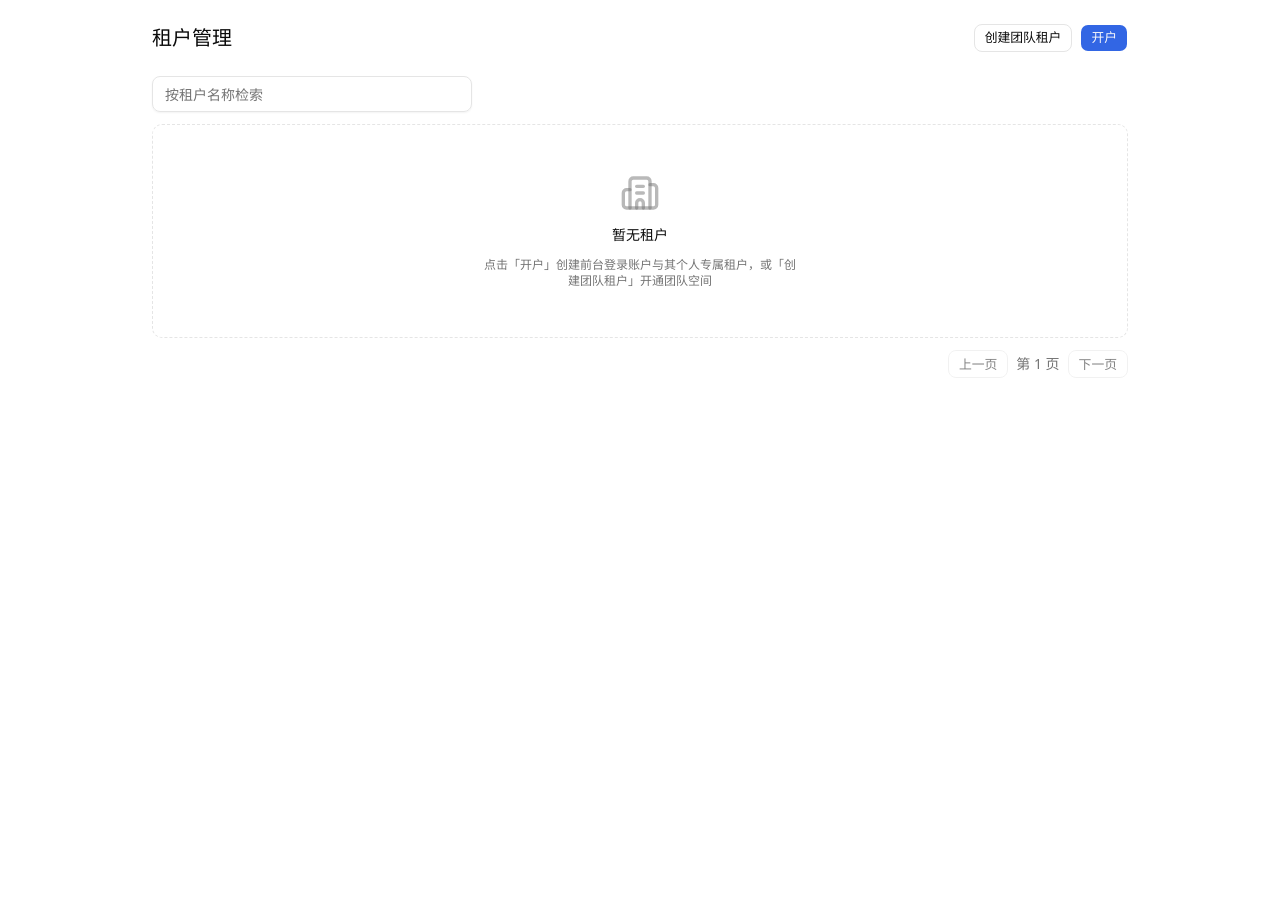
TenantsPage › 开户错误映射重名 / 非法 / 服务不可用
Click the button "开户".
click(1104, 38)  # box [1080,24,1128,52]
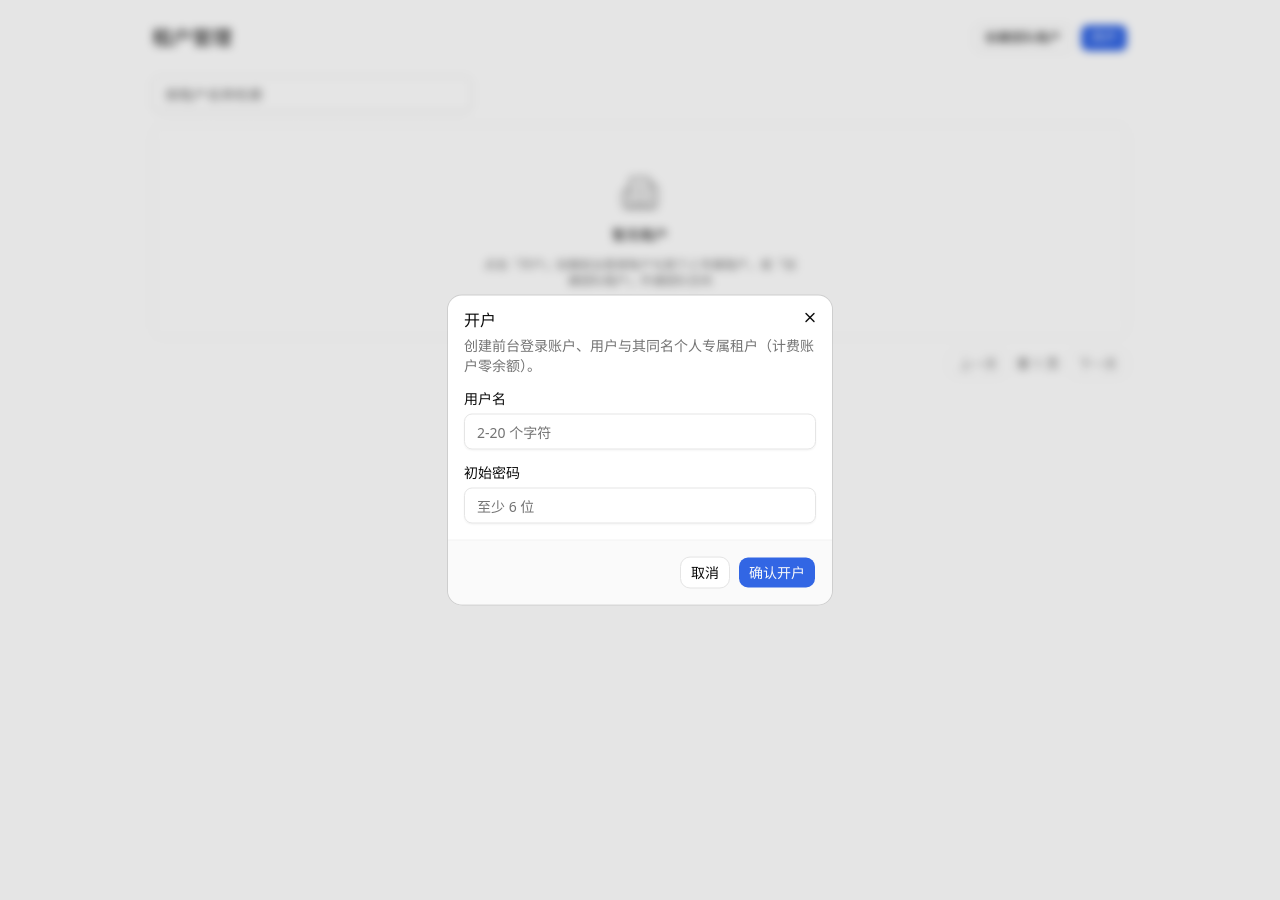
Type "alice" into the field labelled "用户名".
click(640, 432); type("alice")  # box [464,414,816,450]
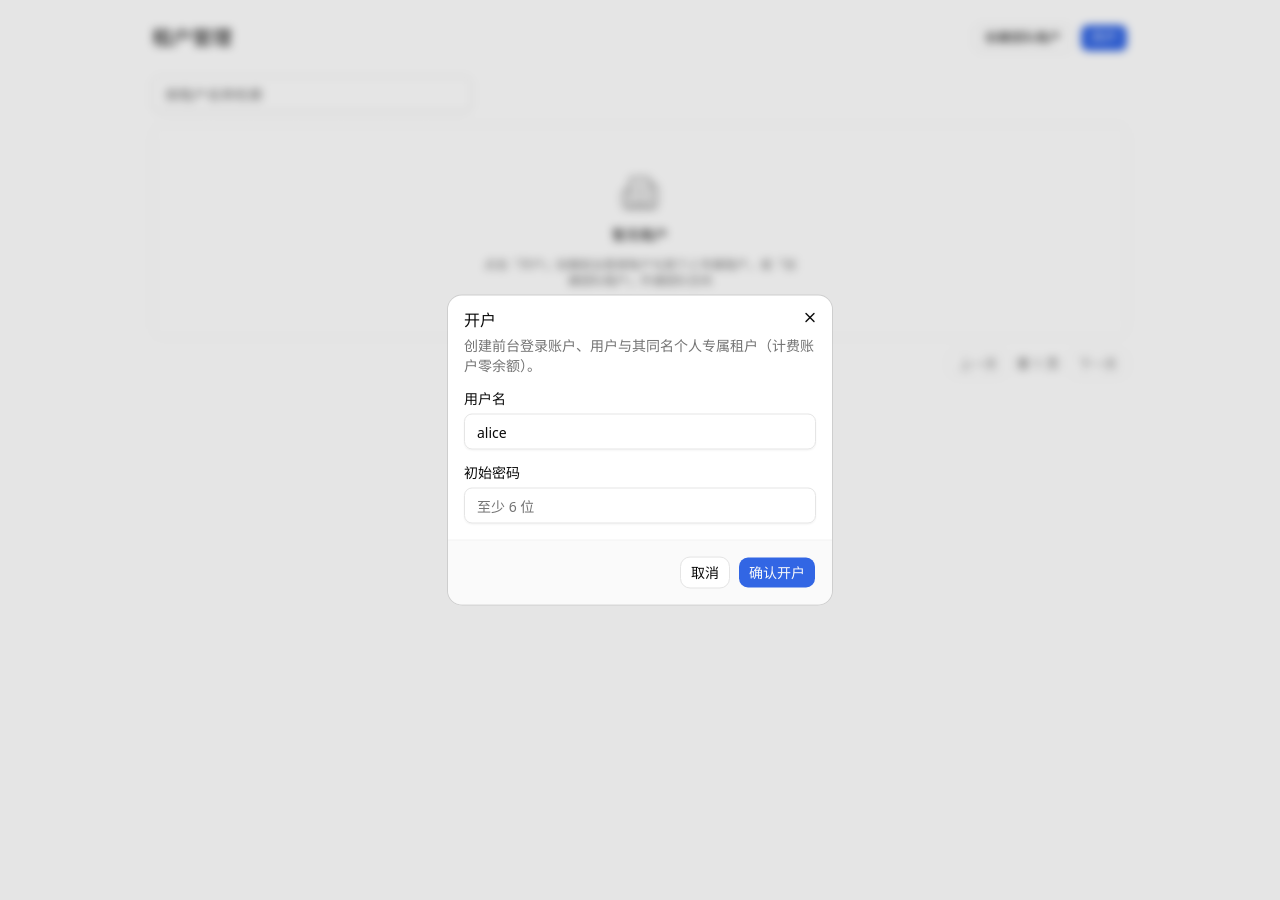
Type "secret1" into the password field labelled "初始密码".
click(640, 506); type("secret1")  # box [464,488,816,524]
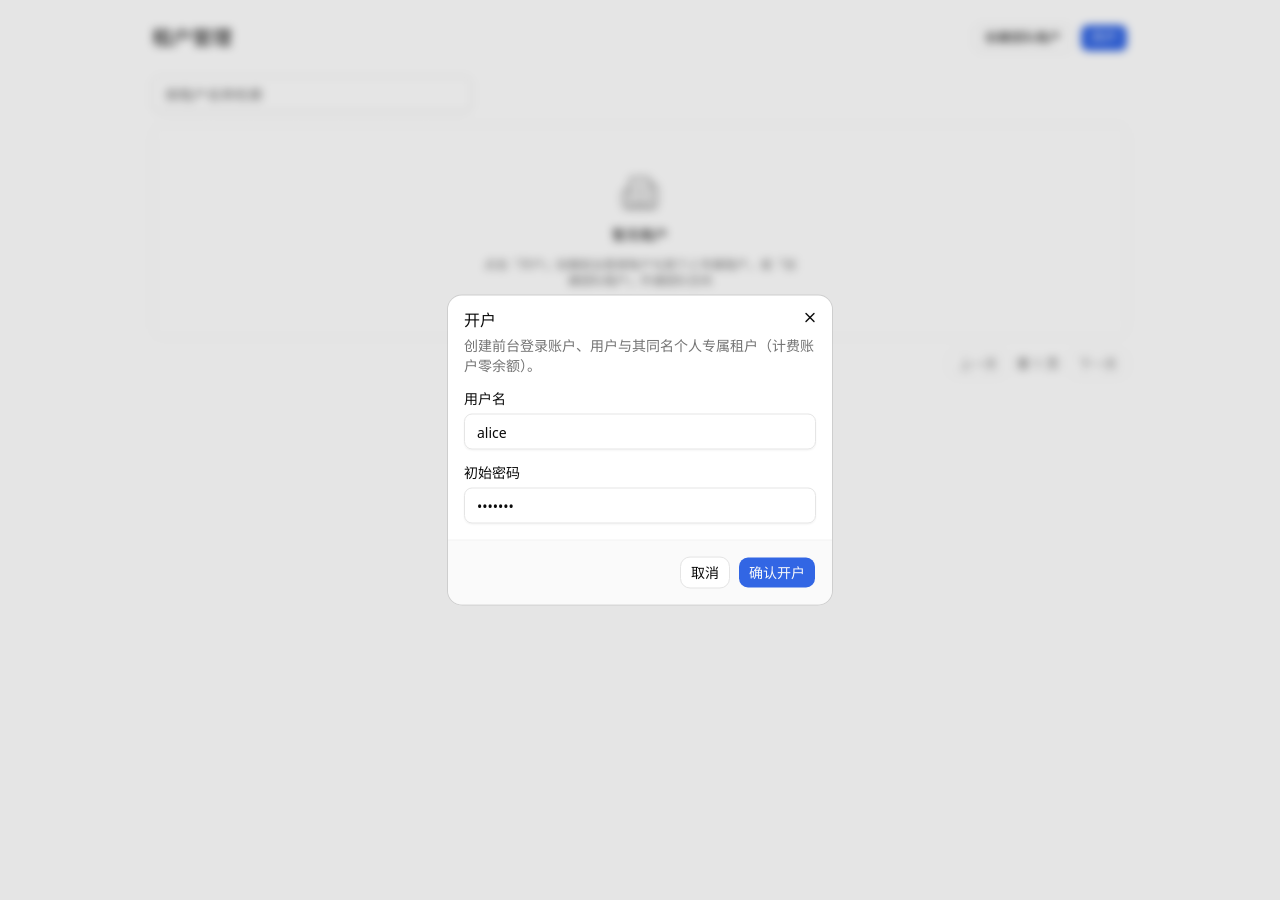
Click the button "确认开户".
click(777, 572)  # box [738,556,816,588]
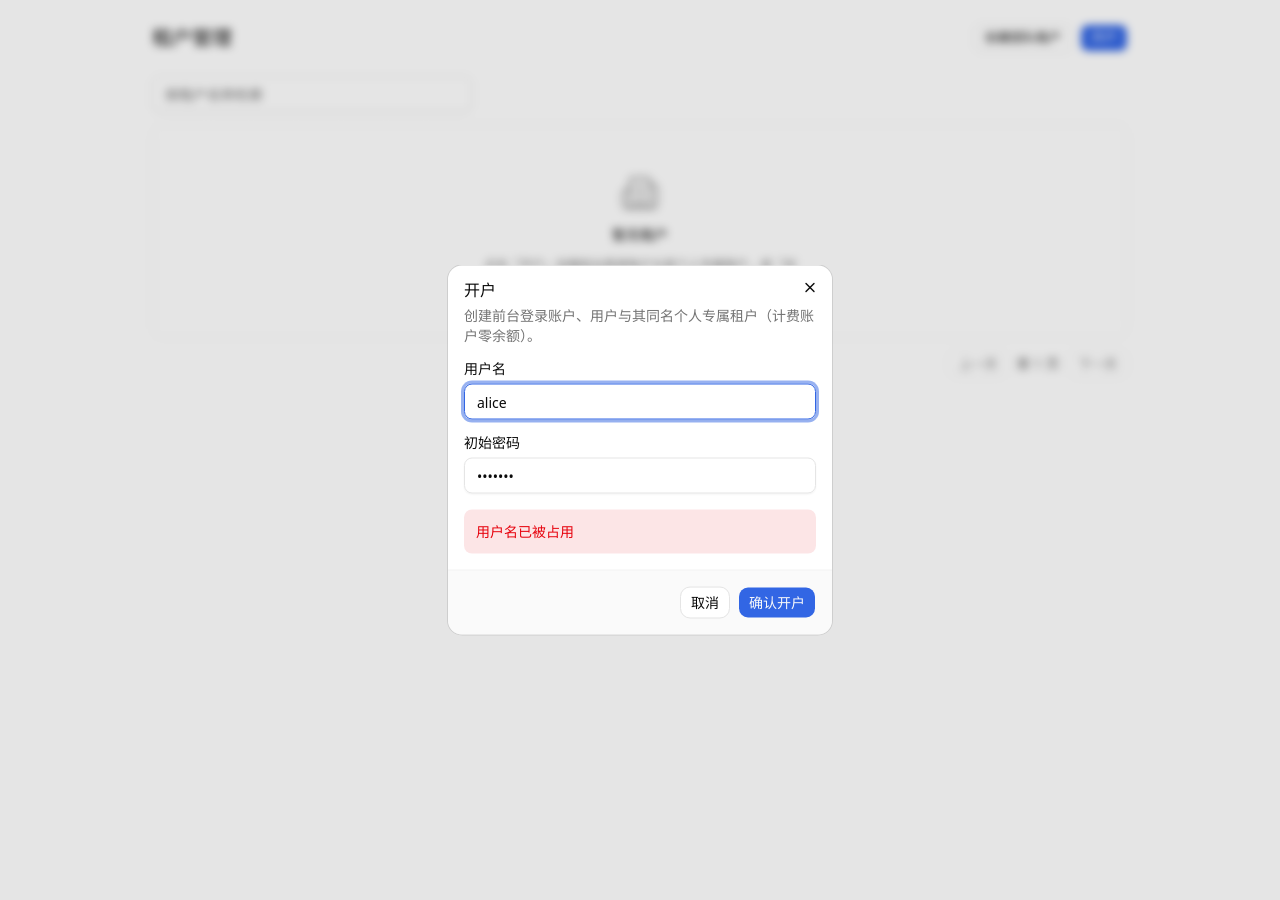
Now the message reads "用户名已被占用", box [476,522,574,540]
Click the button "确认开户".
click(777, 602)  # box [738,586,816,618]
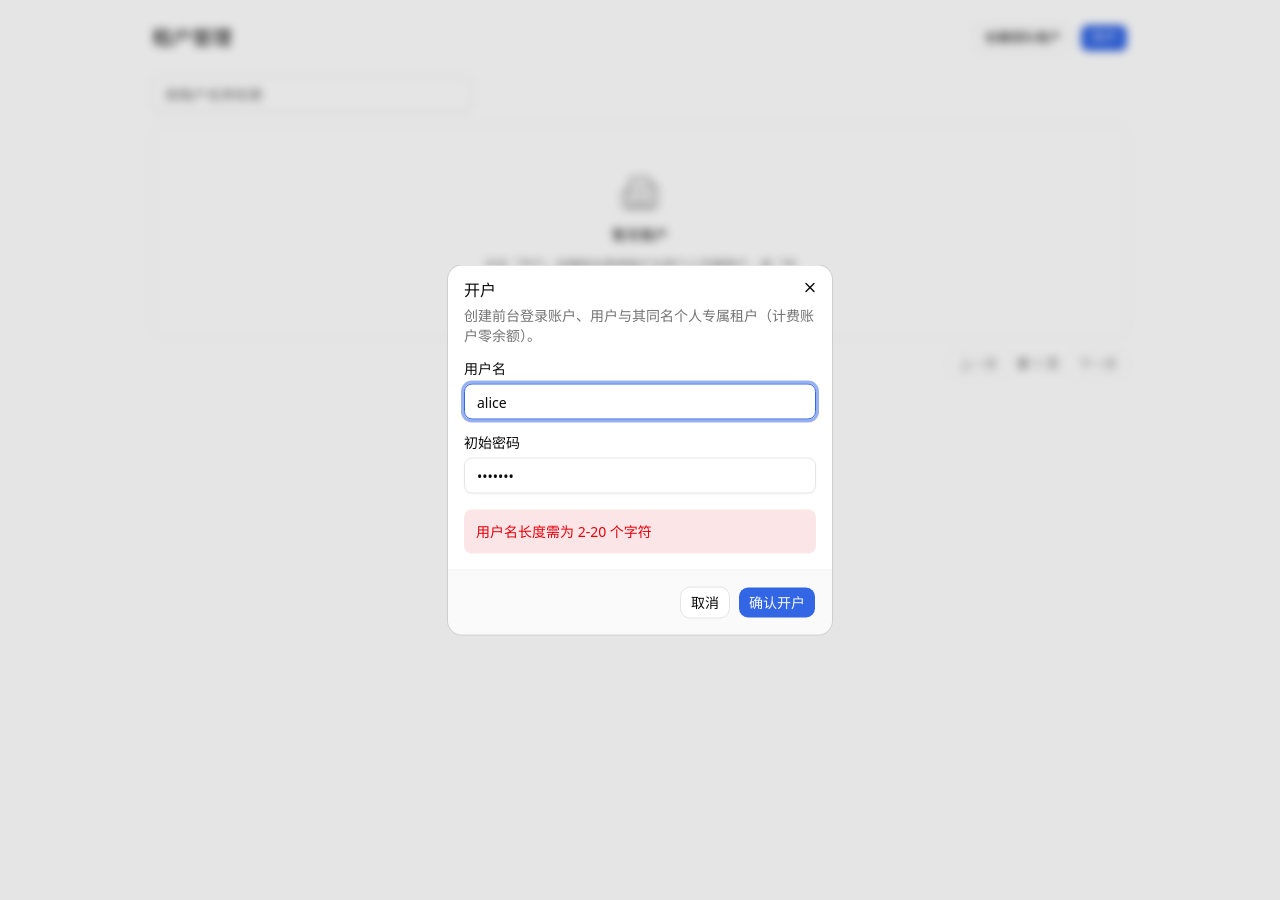
Now the message reads "用户名长度需为 2-20 个字符", box [476,522,652,540]
Click the button "确认开户".
click(777, 602)  # box [738,586,816,618]
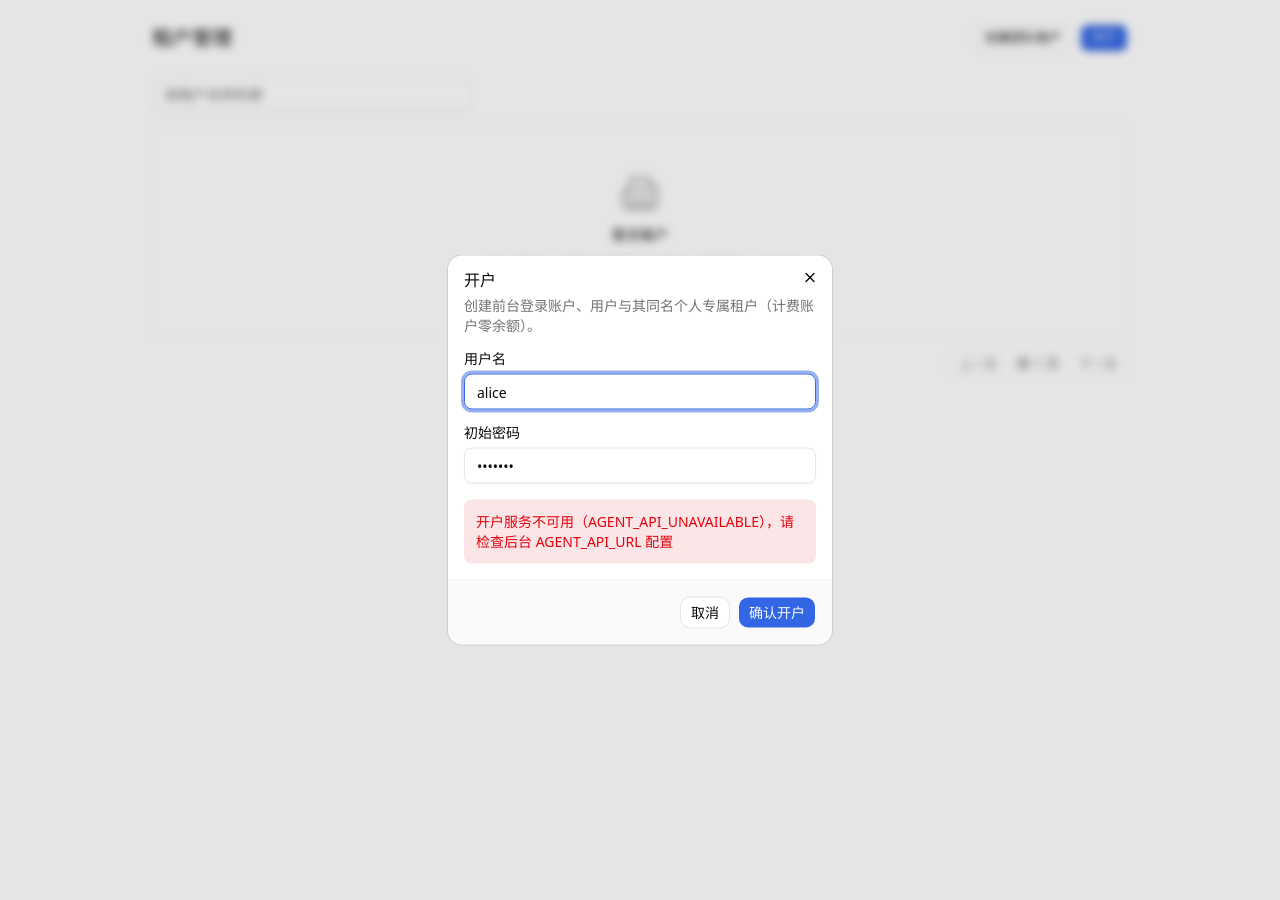
Now the message shows "AGENT_API_UNAVAILABLE", box [476,512,794,550]
